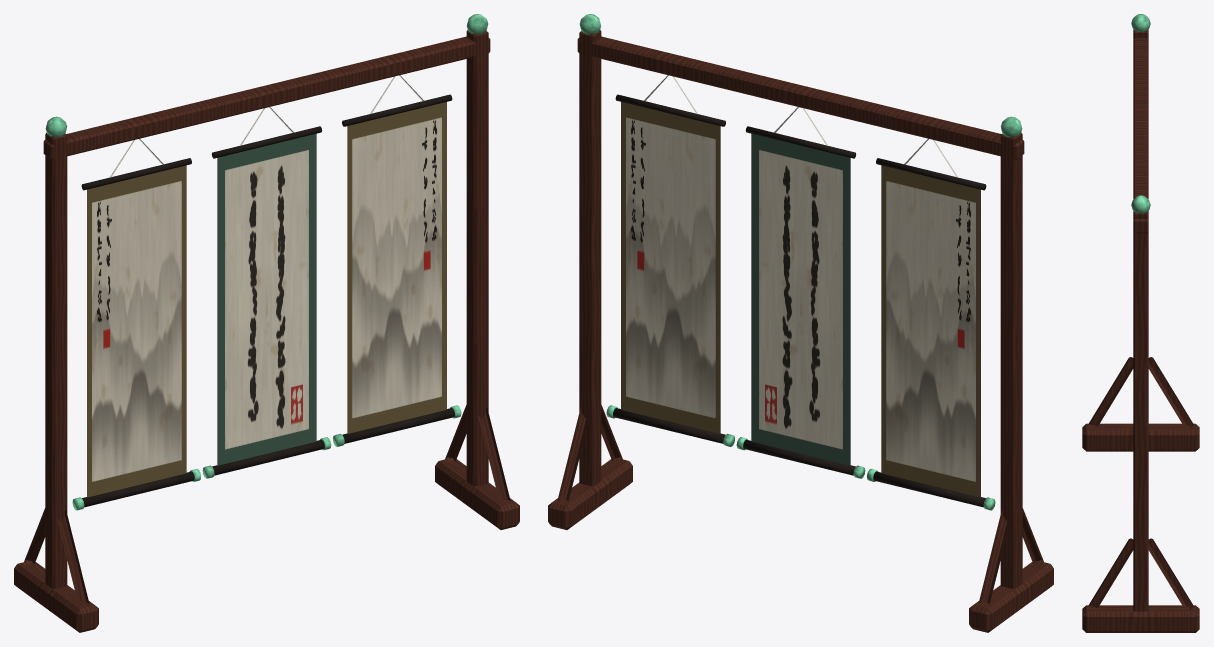
File: hanging_scrolls.glb
3 views of the same model, side by side, from view 1: azimuth 30°, elevation 25°; view 2: azimuth 150°, elevation 25°; view 3: azimuth 270°, elevation 25° (orthographic). The views are drawn at different scales.
Visible parts, largest first — view 1: LandscapeScrolls, ScrollFrame, CalligraphyScroll, ScrollRods, ScrollKnobs; view 2: LandscapeScrolls, ScrollFrame, CalligraphyScroll, ScrollRods, ScrollKnobs; view 3: ScrollFrame, ScrollKnobs.
Boxes of the visible parts, x1,y1,x2,y2 form: LandscapeScrolls: [87, 102, 446, 497]; ScrollFrame: [14, 30, 519, 632]; CalligraphyScroll: [217, 133, 316, 465]; ScrollRods: [81, 94, 454, 507]; ScrollKnobs: [45, 14, 488, 510]; LandscapeScrolls: [621, 102, 980, 497]; ScrollFrame: [548, 30, 1053, 632]; CalligraphyScroll: [751, 133, 850, 465]; ScrollRods: [613, 94, 986, 507]; ScrollKnobs: [579, 14, 1022, 510]; ScrollFrame: [1082, 29, 1199, 632]; ScrollKnobs: [1131, 14, 1150, 213].
Size of what is drawn, in the model's own units: 2.32 by 2.45 by 0.6.
Materials: 6 (5 with a texture image).
